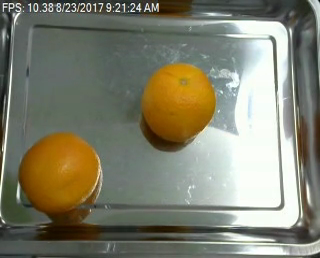Orange: (18, 131, 101, 215), (140, 61, 217, 140)
